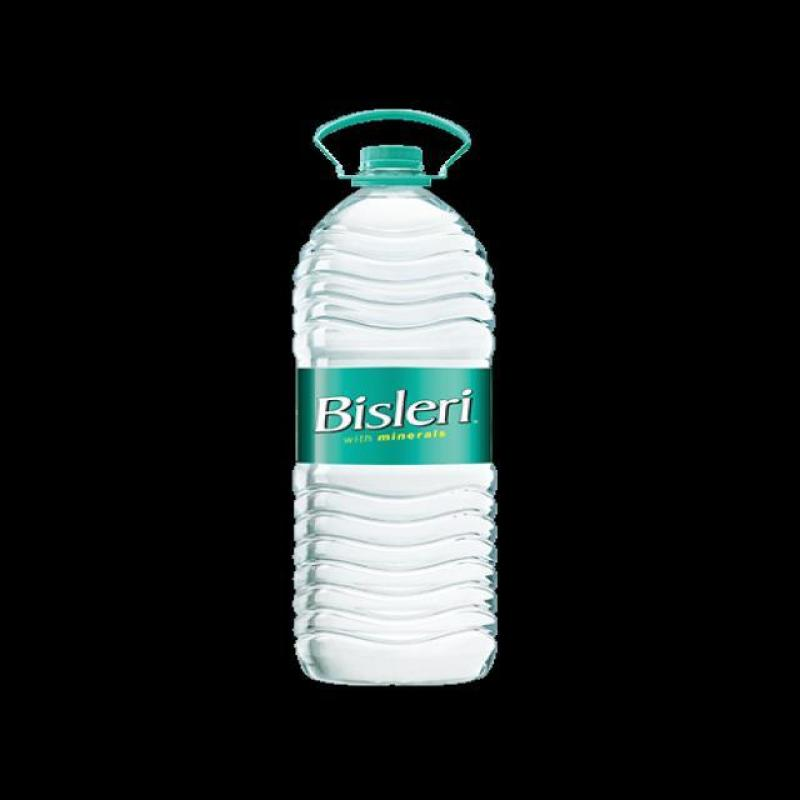botella: (290, 145, 510, 689)
